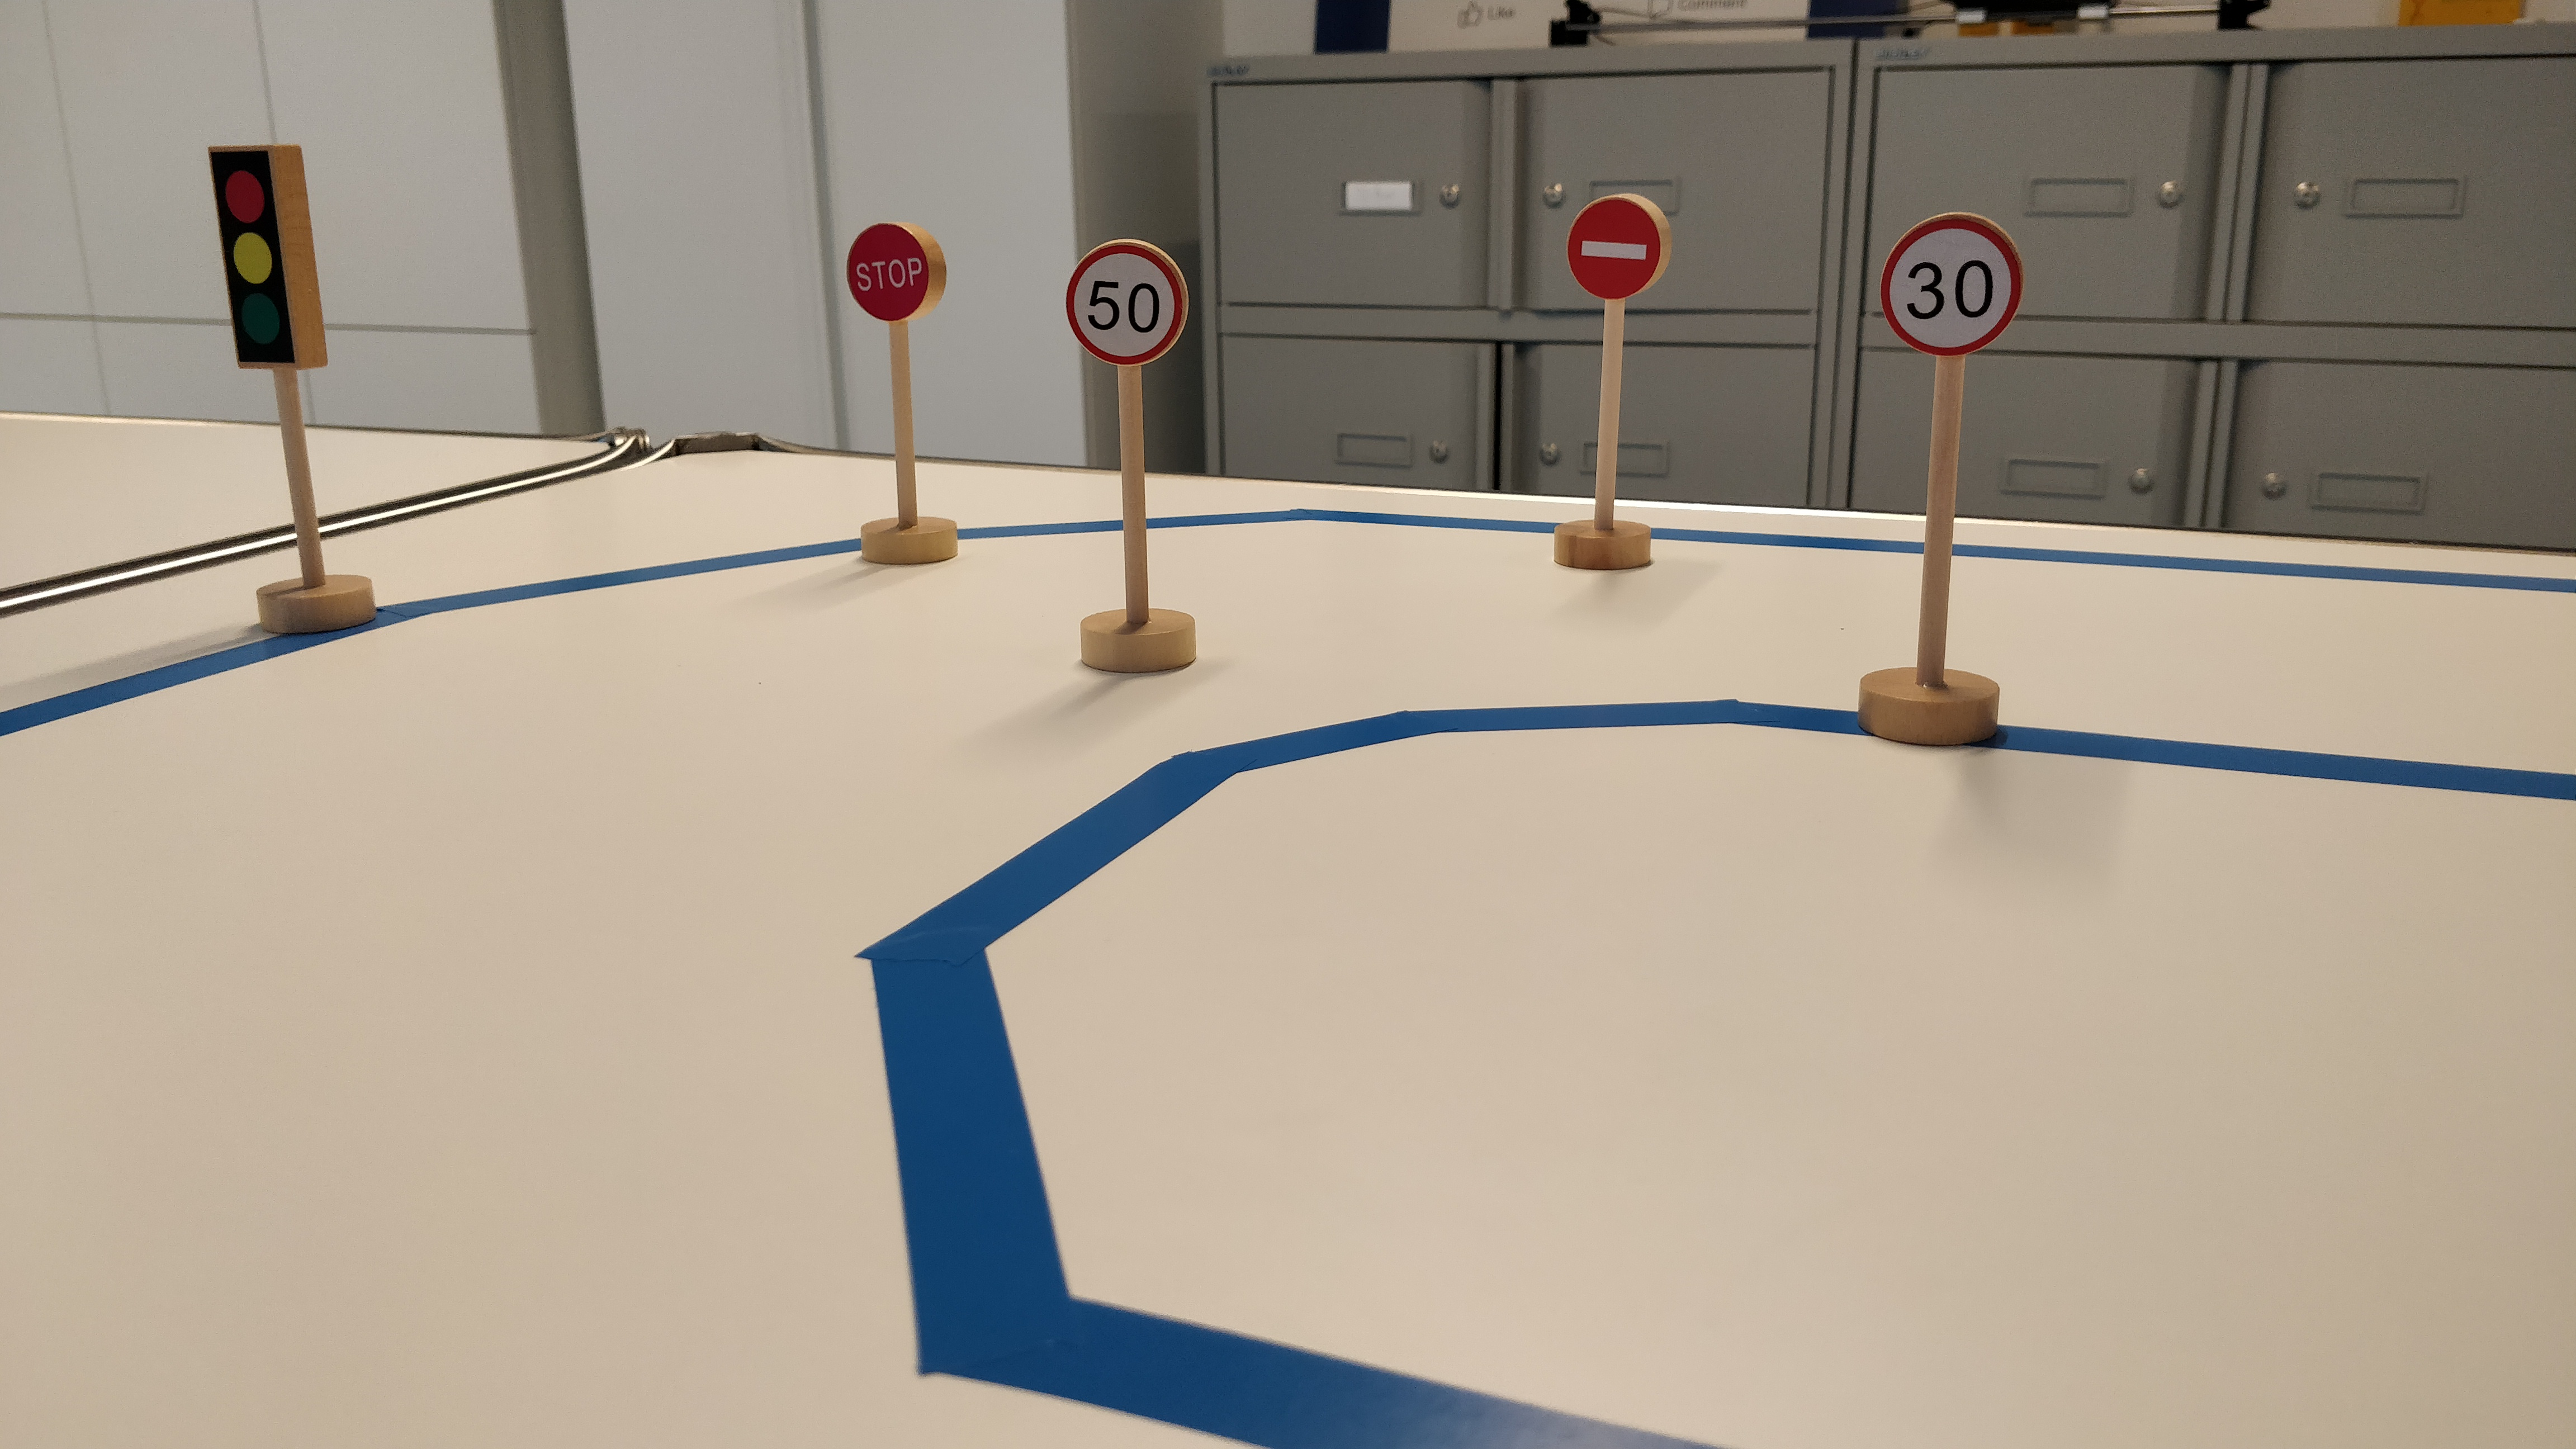Prohibition Sign: (1565, 188, 1670, 300)
Speed Limit 30: (1878, 210, 2028, 360)
Speed Limit 50: (1061, 233, 1194, 368)
Stop Sign: (847, 217, 949, 327)
Traffic Light: (202, 139, 334, 372)
